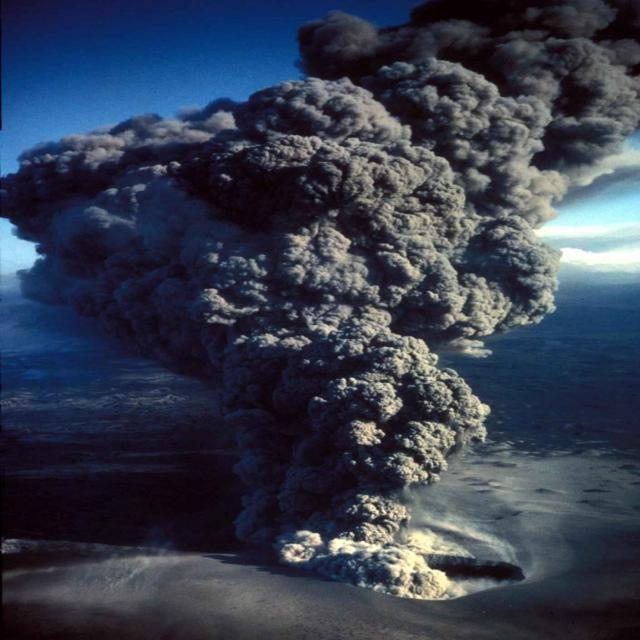Smoke: (2, 0, 639, 600)
